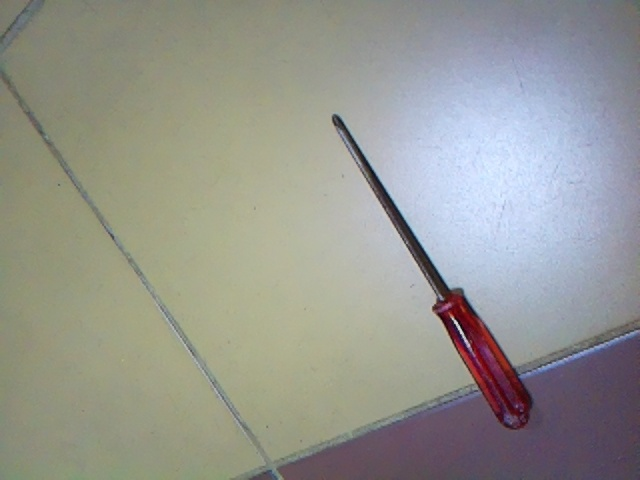redskrew: (328, 110, 541, 433)
